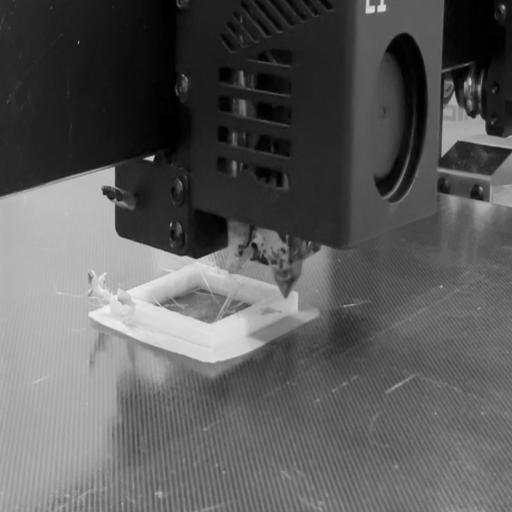spaghetti_and_stringing: (196, 270, 247, 322), (82, 270, 146, 306), (150, 286, 189, 310)
warp: (86, 309, 156, 346), (174, 343, 242, 375)
